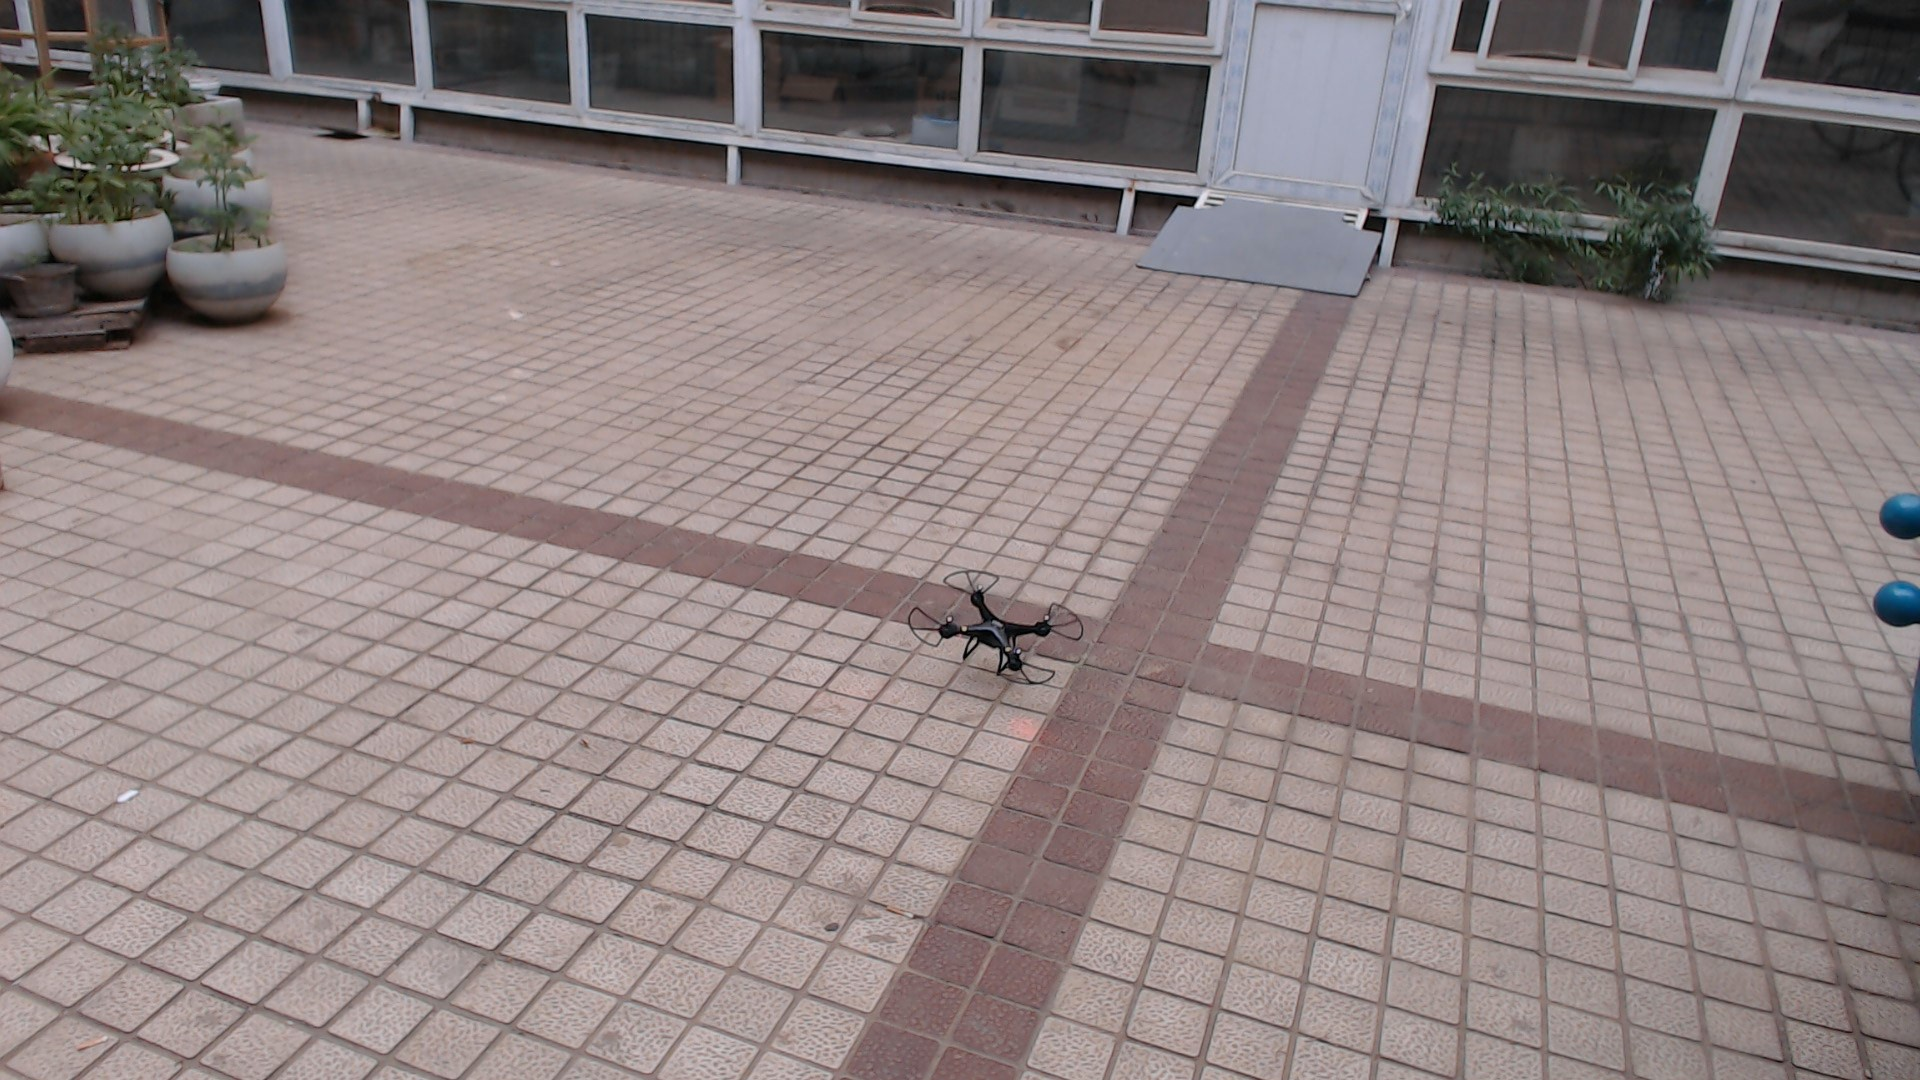drone: (903, 533, 1100, 705)
